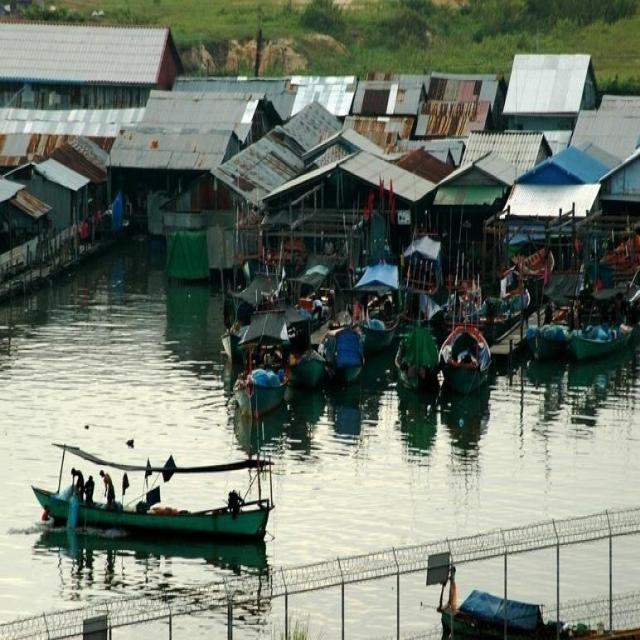boat: (28, 444, 284, 564), (222, 336, 292, 424), (438, 311, 492, 394)
